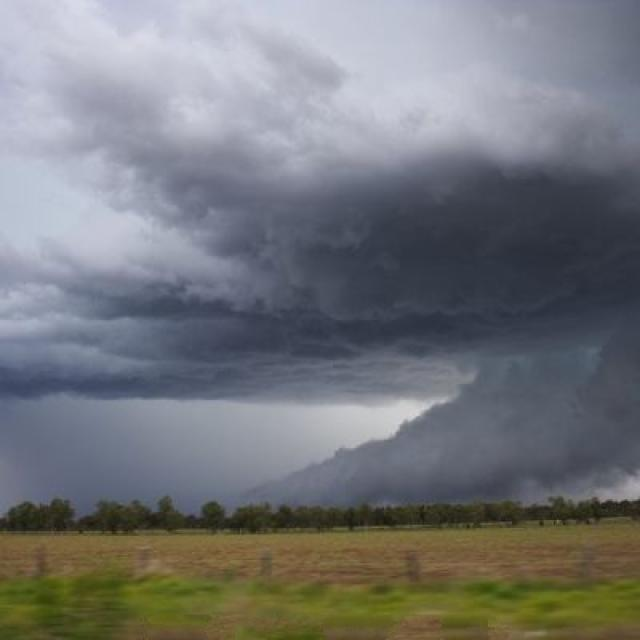Cb: (1, 56, 640, 487)
